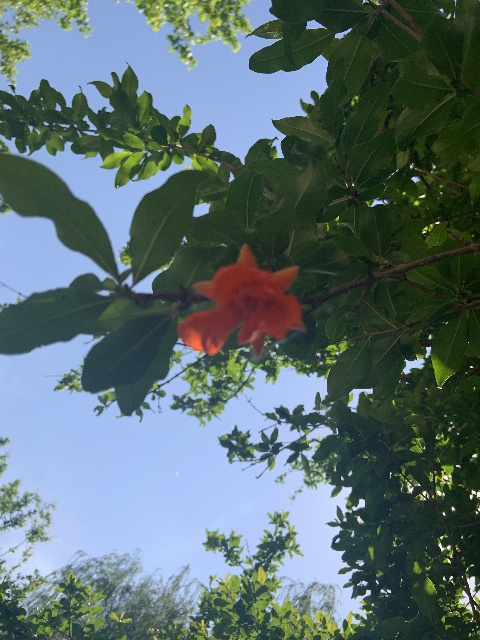flower: (177, 242, 305, 357)
